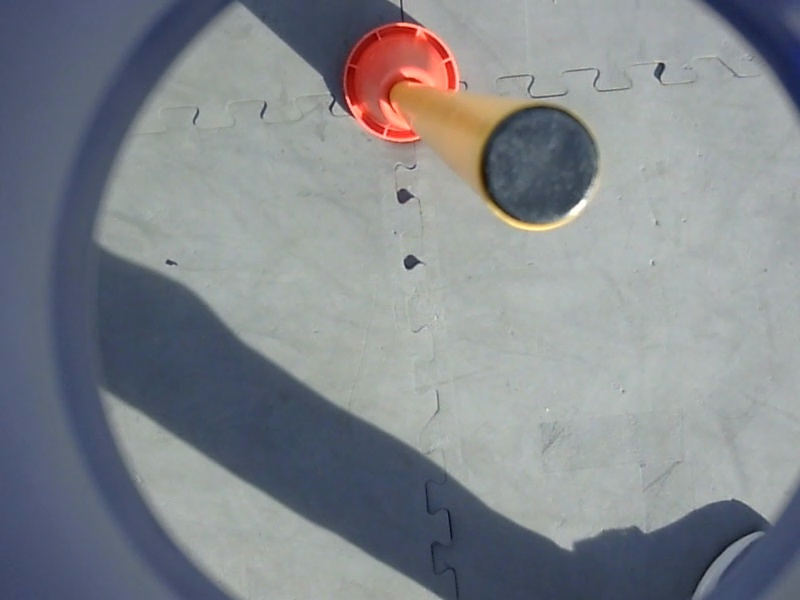tip: (467, 99, 607, 238)
